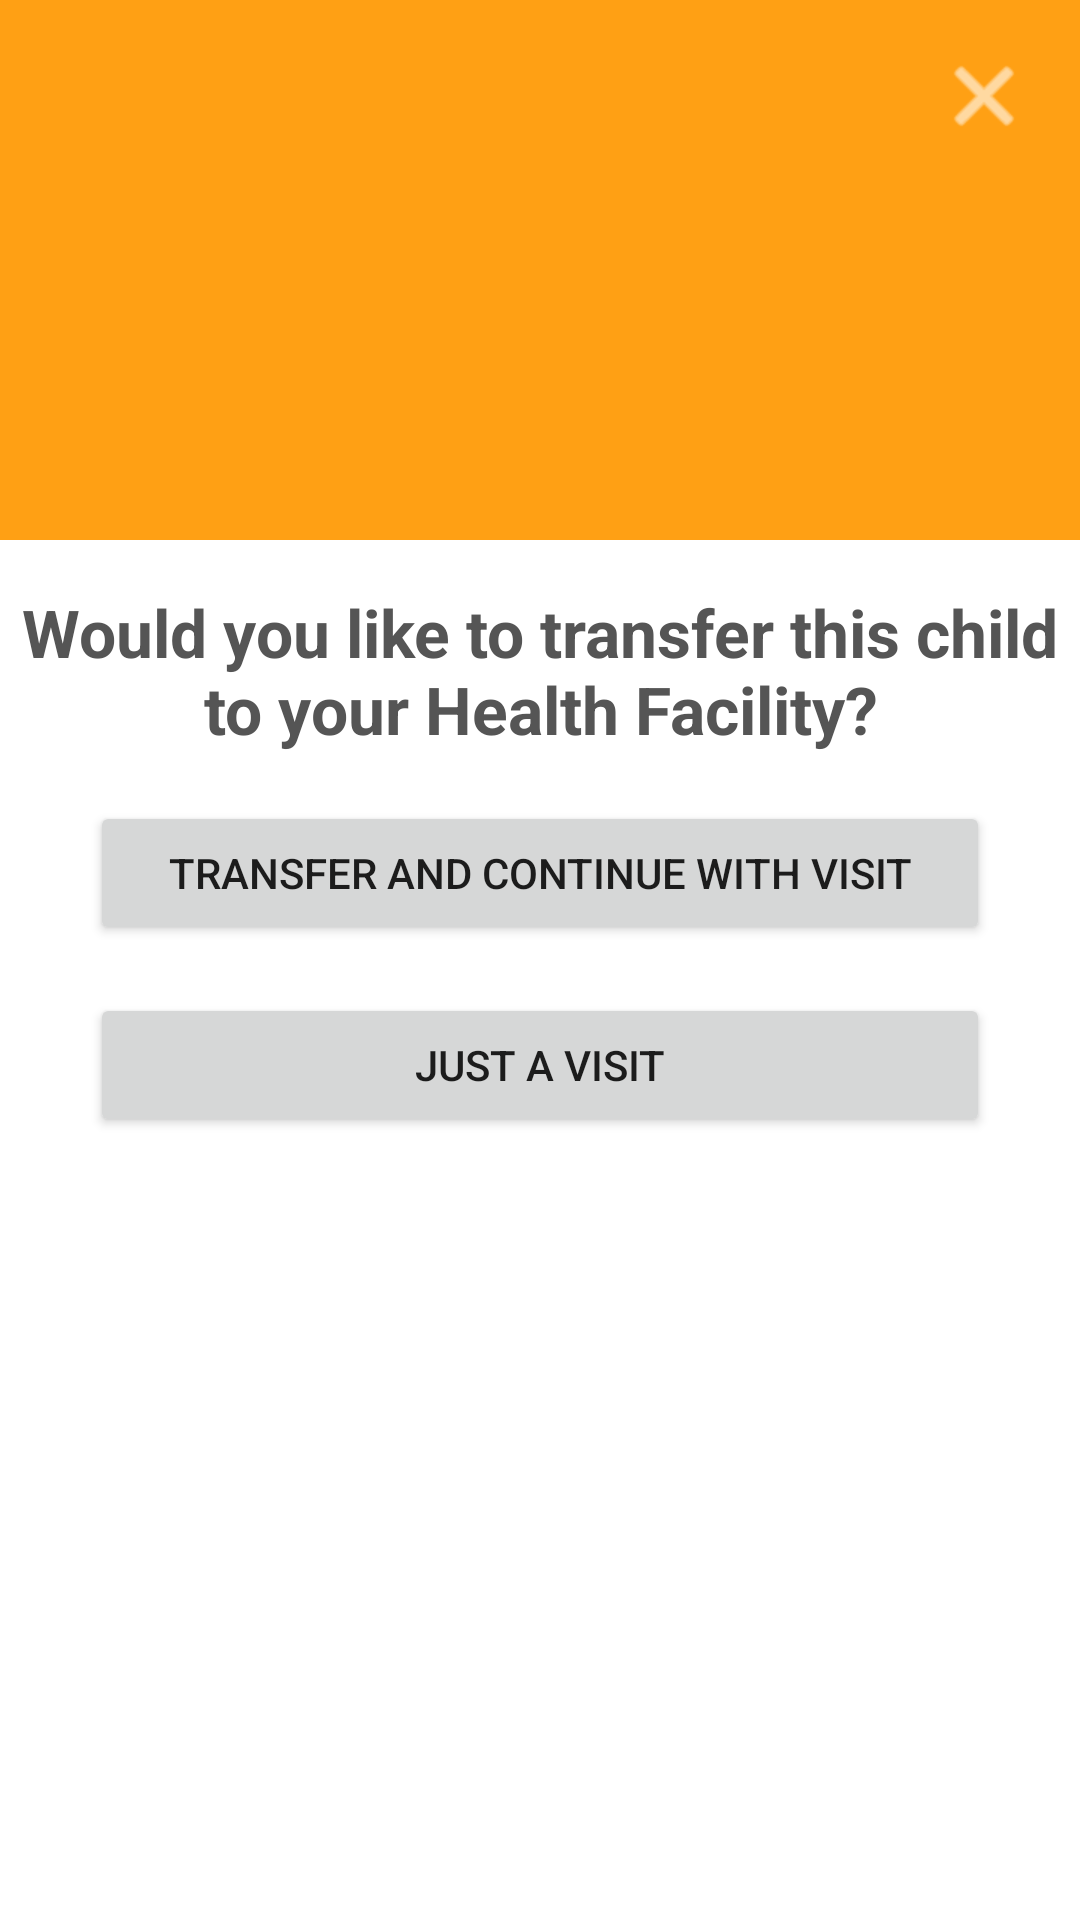

Point at icon controls on the screen. Image size 1080px x 1920px, points as (x,y).
Close dialog: (984,96)
